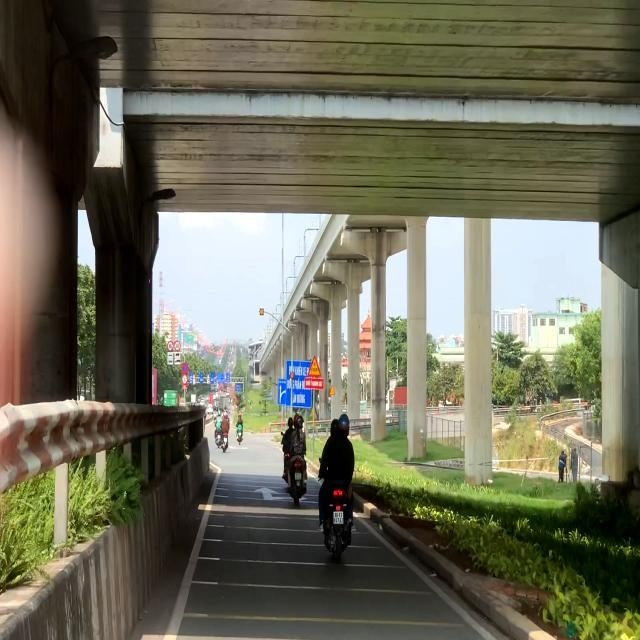bien_cam: (307, 354, 322, 378), (181, 362, 188, 375), (167, 340, 174, 352), (174, 341, 181, 352)
